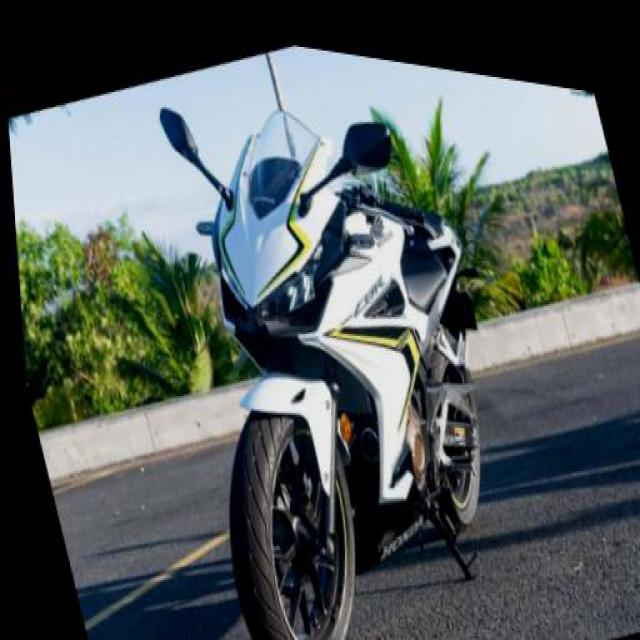CBR500R: (121, 17, 556, 638)
